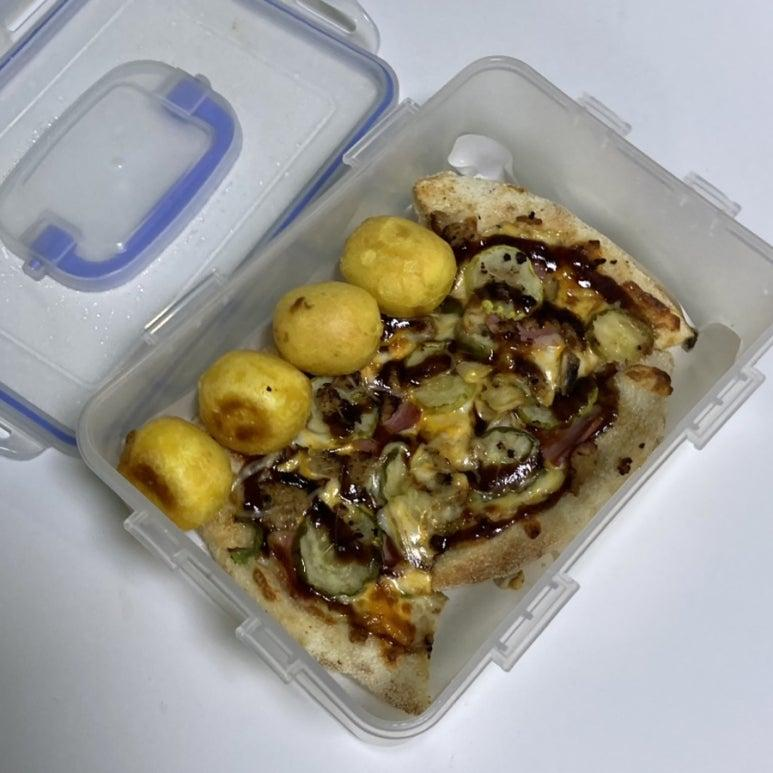Lunch Box: (0, 0, 772, 742)
